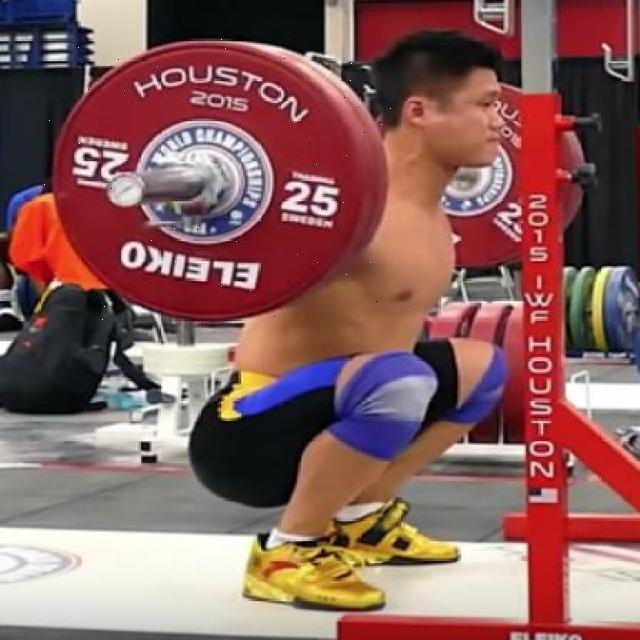barbell: (42, 38, 400, 327)
